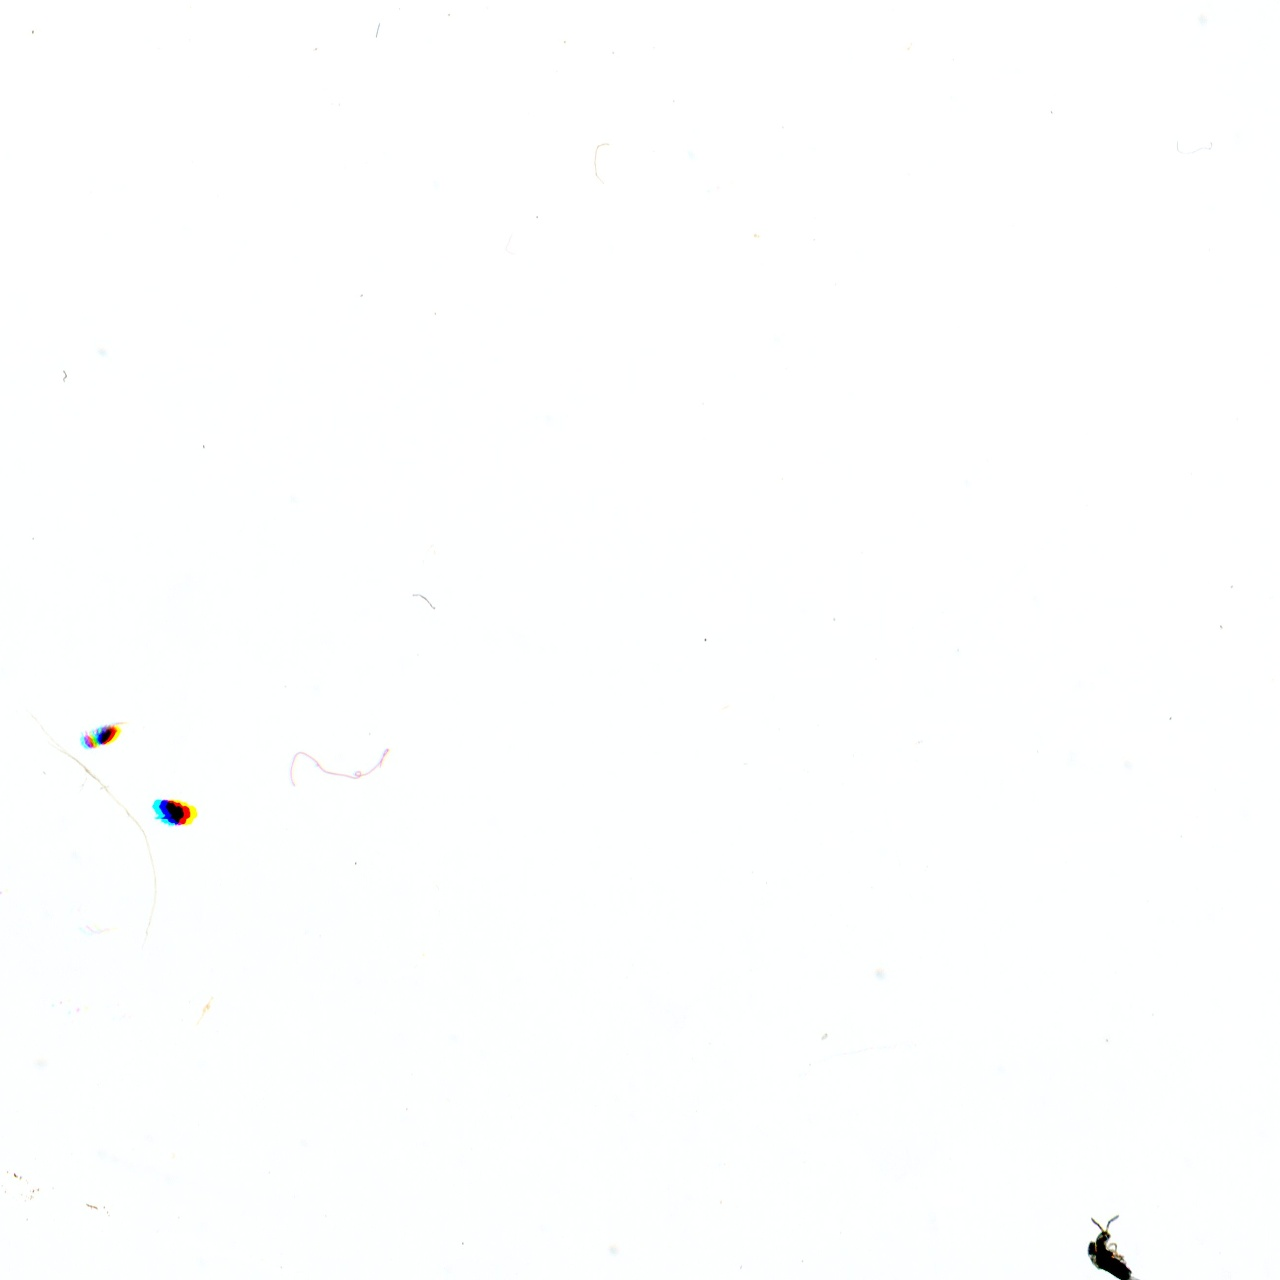arthropod: (1075, 1208, 1170, 1280), (79, 715, 129, 753)
